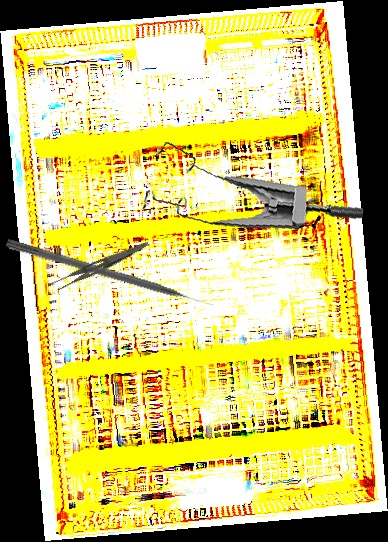Dressing Forceps: (46, 230, 150, 299)
Pusher: (4, 237, 215, 313)
Speculum: (133, 116, 366, 251)
